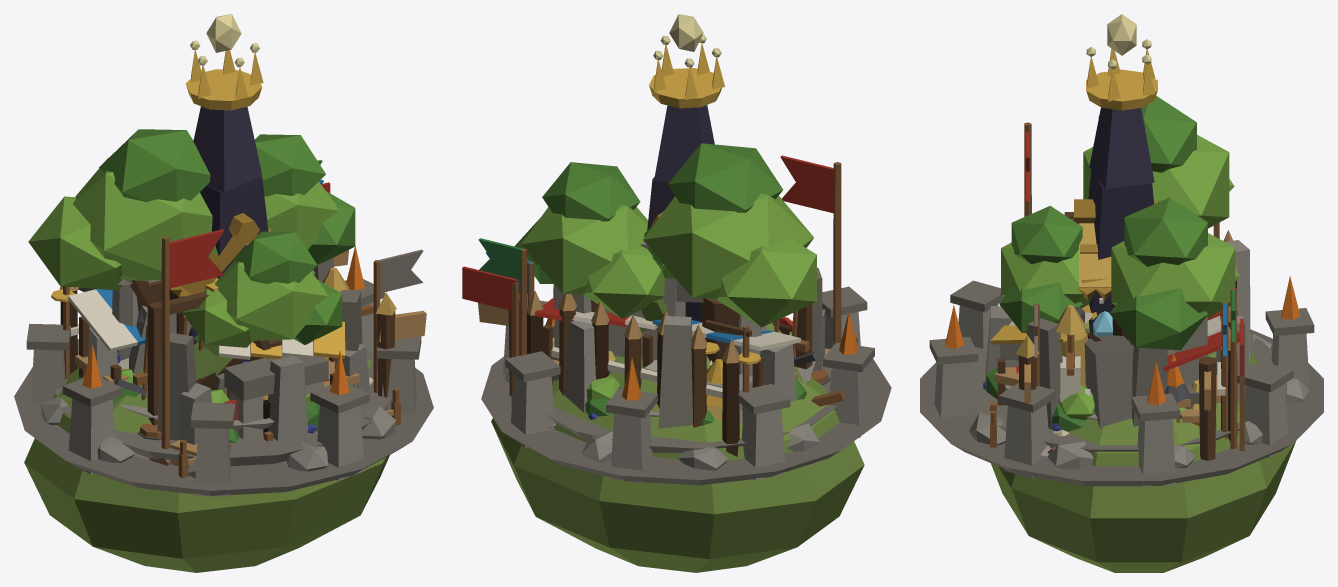
File: landmarks.glb
The picture shows the model from 3 angles, left to right: view 1: azimuth 30°, elevation 25°; view 2: azimuth 150°, elevation 25°; view 3: azimuth 270°, elevation 25°; orthographic projection. The views are drawn at different scales.
Parts seen in each view (by area): view 1: discovery_oakwood, discovery_kingstone, discovery_barrow, discovery_stones, calling_trader, calling_stronghold, discovery_starstone, calling_masons, discovery_shrine, discovery_outcrop, calling_hearth, discovery_ruins (+2 smaller); view 2: discovery_oakwood, discovery_kingstone, discovery_barrow, calling_stronghold, discovery_stones, calling_trader, discovery_starstone, calling_hearth, discovery_outcrop, discovery_wanderers, calling_masons, discovery_grove (+2 smaller); view 3: discovery_kingstone, discovery_oakwood, discovery_barrow, discovery_stones, discovery_outcrop, discovery_starstone, calling_trader, calling_hearth, calling_stronghold, discovery_shrine, discovery_grove, calling_masons (+1 smaller).
Part boxes in pixels (bbox=[...]): discovery_oakwood: bbox=[28, 129, 426, 409]; discovery_kingstone: bbox=[14, 14, 433, 496]; discovery_barrow: bbox=[24, 344, 389, 572]; discovery_stones: bbox=[88, 258, 362, 440]; calling_trader: bbox=[51, 179, 373, 466]; calling_stronghold: bbox=[59, 229, 329, 460]; discovery_starstone: bbox=[40, 327, 396, 478]; calling_masons: bbox=[147, 249, 423, 425]; discovery_shrine: bbox=[161, 213, 270, 334]; discovery_outcrop: bbox=[114, 250, 348, 458]; calling_hearth: bbox=[178, 160, 400, 478]; discovery_ruins: bbox=[112, 270, 315, 360]; discovery_oakwood: bbox=[514, 143, 816, 362]; discovery_kingstone: bbox=[481, 14, 891, 485]; discovery_barrow: bbox=[491, 309, 864, 572]; calling_stronghold: bbox=[526, 155, 841, 456]; discovery_stones: bbox=[553, 267, 822, 428]; calling_trader: bbox=[485, 252, 830, 422]; discovery_starstone: bbox=[504, 371, 839, 470]; calling_hearth: bbox=[478, 238, 857, 421]; discovery_outcrop: bbox=[478, 278, 818, 396]; discovery_wanderers: bbox=[462, 266, 712, 406]; calling_masons: bbox=[552, 284, 812, 424]; discovery_grove: bbox=[585, 331, 806, 425]; discovery_kingstone: bbox=[920, 14, 1323, 487]; discovery_oakwood: bbox=[999, 95, 1239, 402]; discovery_barrow: bbox=[991, 300, 1295, 572]; discovery_stones: bbox=[985, 240, 1250, 429]; discovery_outcrop: bbox=[1040, 335, 1216, 460]; discovery_starstone: bbox=[969, 311, 1308, 469]; calling_trader: bbox=[990, 222, 1239, 439]; calling_hearth: bbox=[990, 288, 1237, 449]; calling_stronghold: bbox=[1016, 122, 1238, 441]; discovery_shrine: bbox=[1074, 199, 1158, 343]; discovery_grove: bbox=[983, 366, 1250, 431]; calling_masons: bbox=[1033, 212, 1216, 429].
Size of the model in its own units: 2.35 by 3.41 by 2.35.
